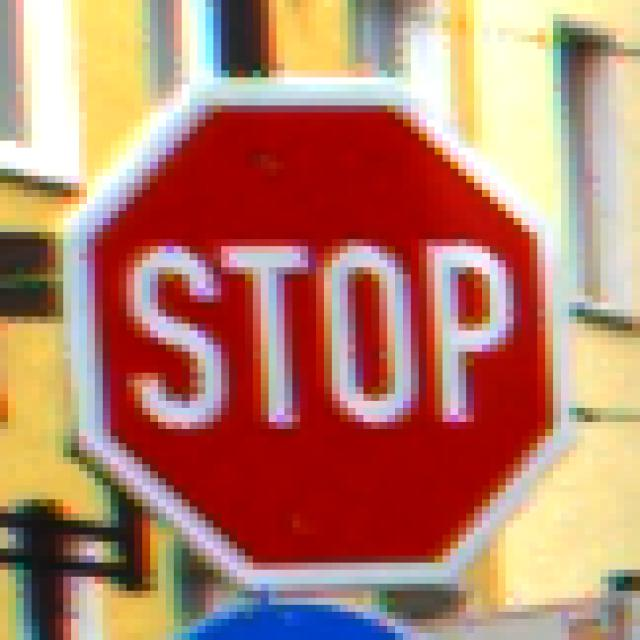STOP: (64, 57, 578, 585)
